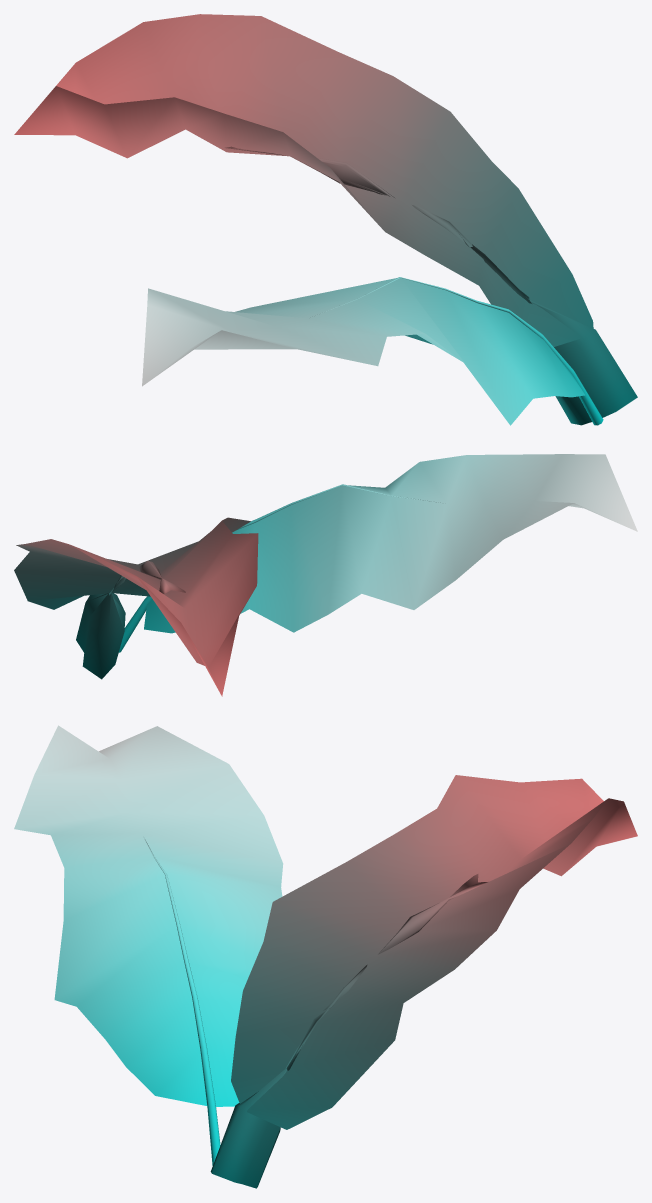
File: Lady_Fern_wdvlditia_Mid_wdvlditia_VarC_LOD0.fbx
3 renders of one model, top to bottom at view 1: azimuth 30°, elevation 25°; view 2: azimuth 150°, elevation 25°; view 3: azimuth 270°, elevation 25°, orthographic. The views are drawn at different scales.
Parts seen in each view (by area): view 1: _8im7_VarC_LOD2; view 2: _8im7_VarC_LOD2; view 3: _8im7_VarC_LOD2.
Part boxes in pixels (<box>): _8im7_VarC_LOD2: <box>14,14,637,425</box>; _8im7_VarC_LOD2: <box>14,454,637,696</box>; _8im7_VarC_LOD2: <box>14,725,637,1188</box>.
Size of the model in its own units: 82.98 by 44.99 by 88.52.
